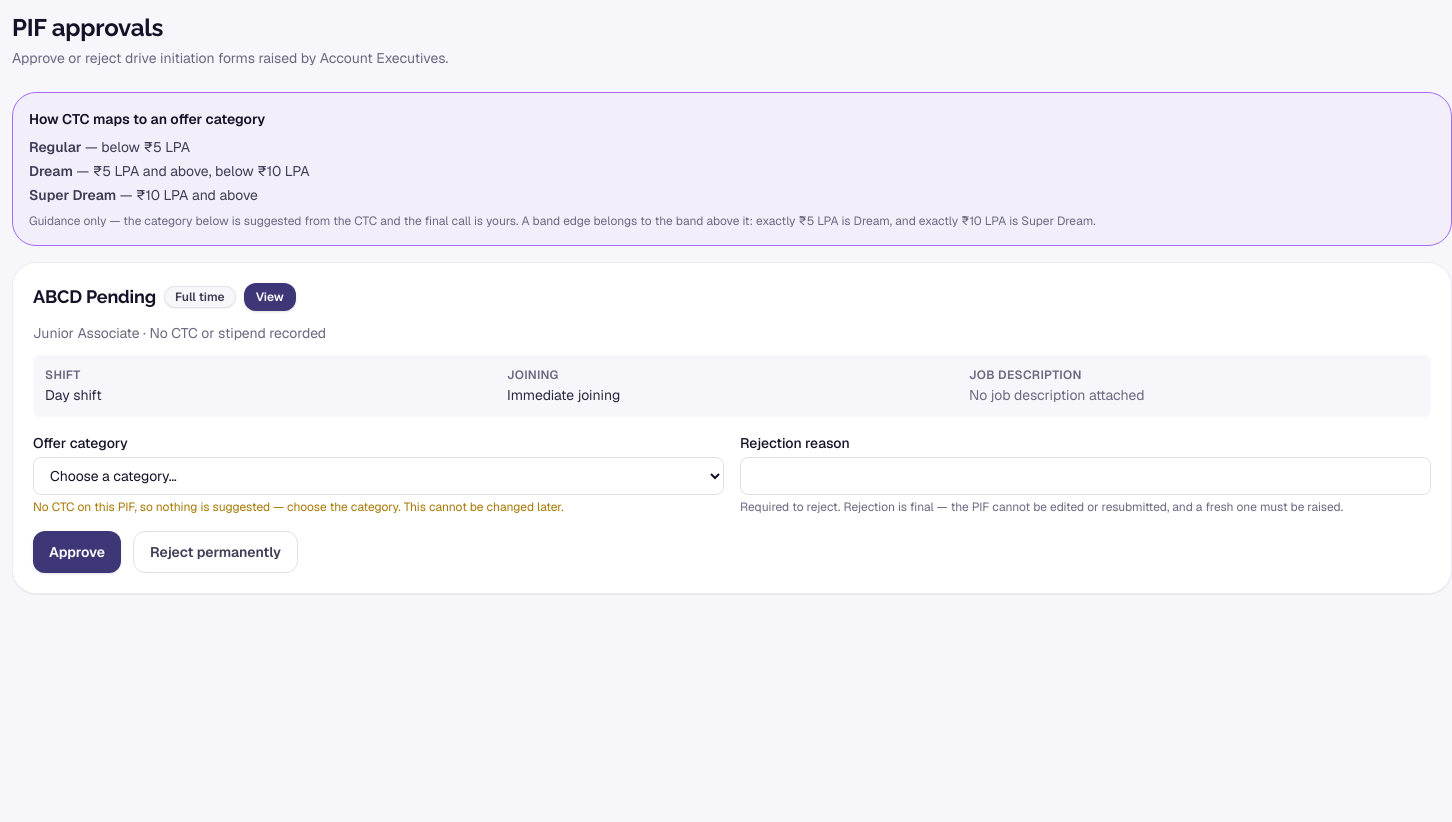
it: PifApprovalQueue — a PIF with no CTC (cap-only internship) › refuses to approve until a category is chosen, and says why
Click the button "Approve".
click(77, 552)  # box [33,531,121,573]
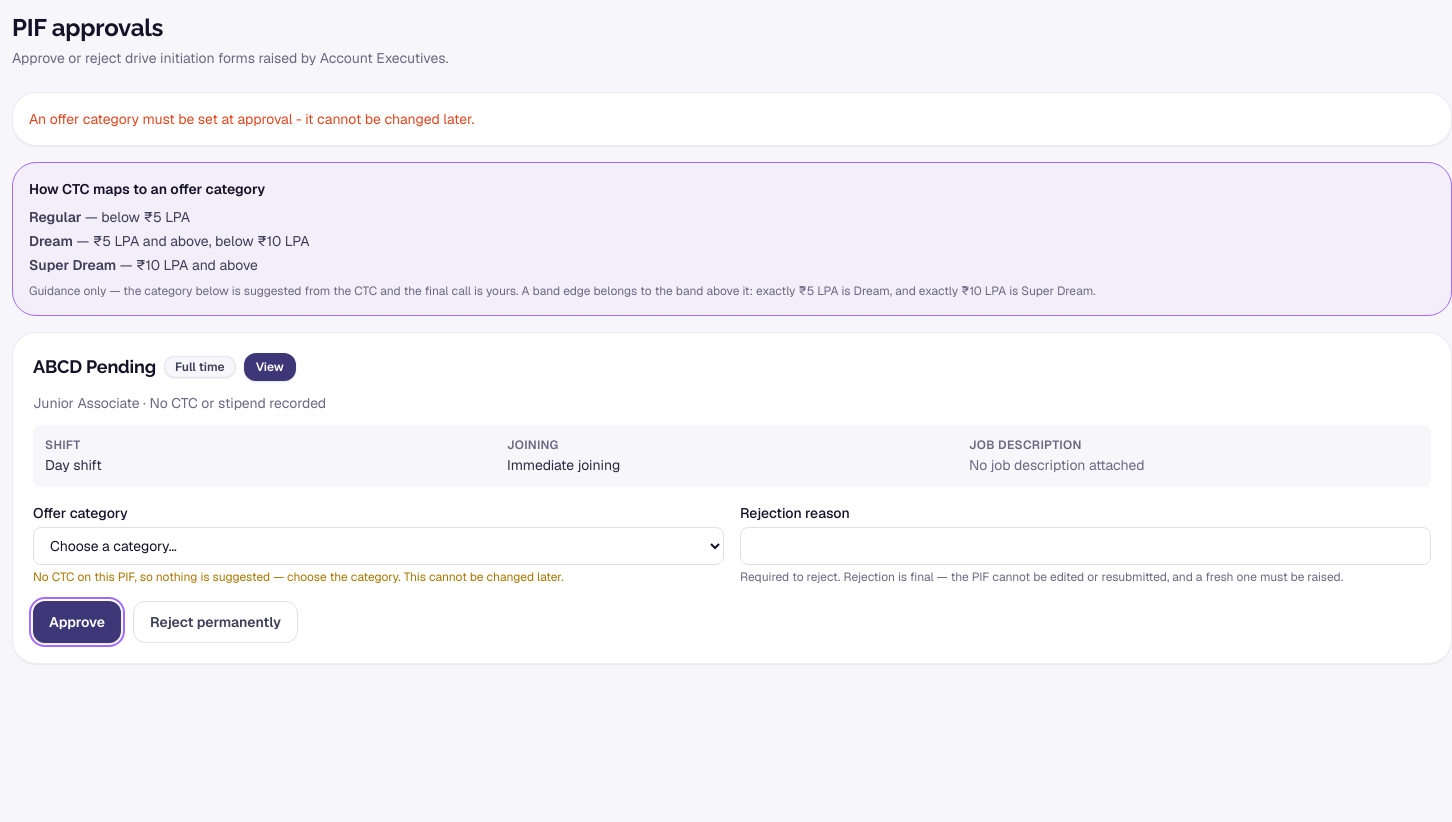
Result: the message shows "offer category must be set" at [29,110,474,128]
